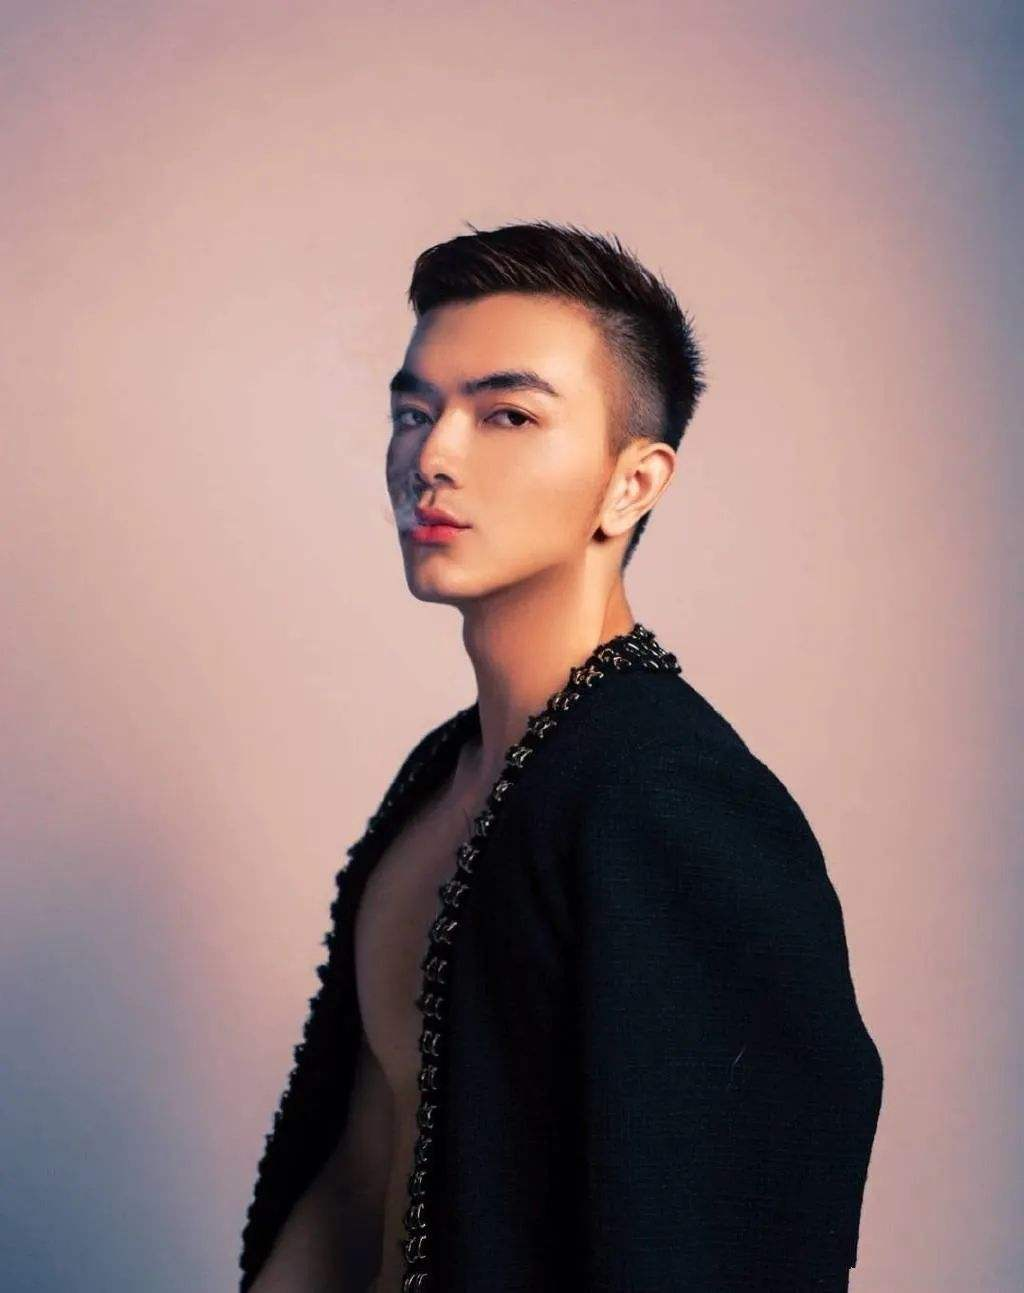person: (237, 211, 849, 1194)
